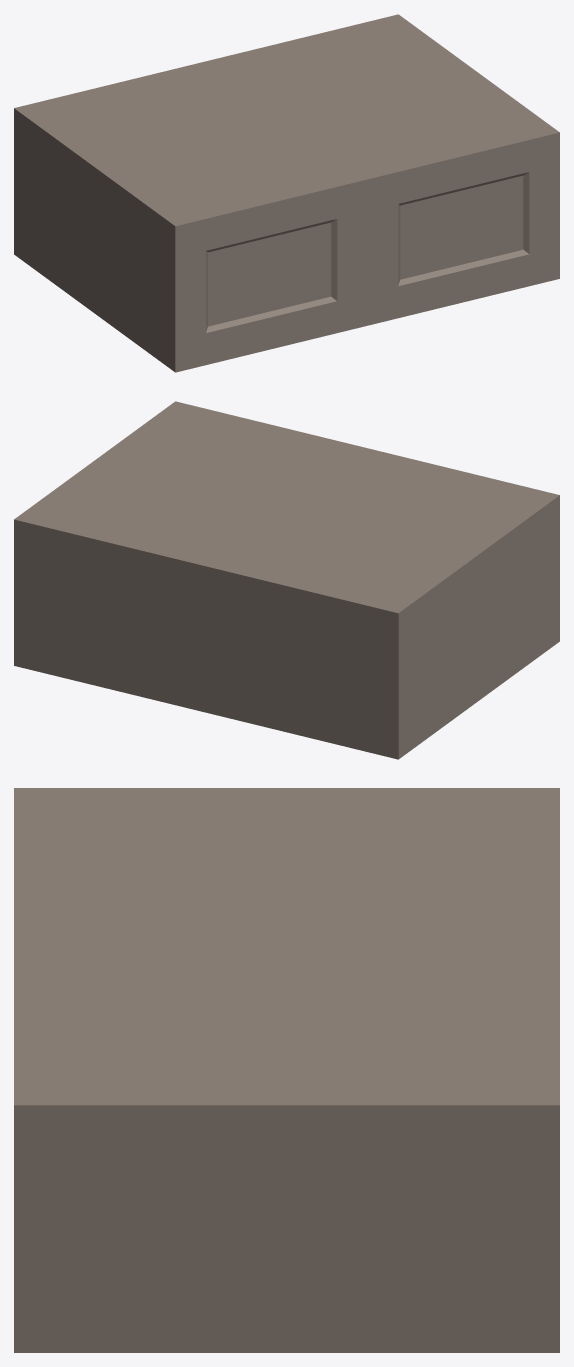
The model's file is WHP-Wall-Refrigerator-Two-Butt-Door.std.glb.
3 renders of one model, top to bottom at view 1: azimuth 30°, elevation 25°; view 2: azimuth 150°, elevation 25°; view 3: azimuth 270°, elevation 25°, orthographic. The views are drawn at different scales.
Visible parts, largest first — view 1: WHP-Wall-Refrigerator-Two-Butt-Door.std.001; view 2: WHP-Wall-Refrigerator-Two-Butt-Door.std.001; view 3: WHP-Wall-Refrigerator-Two-Butt-Door.std.001.
Part boxes in pixels (x1,y1,x2,y2): WHP-Wall-Refrigerator-Two-Butt-Door.std.001: (14, 14, 559, 372); WHP-Wall-Refrigerator-Two-Butt-Door.std.001: (14, 401, 559, 759); WHP-Wall-Refrigerator-Two-Butt-Door.std.001: (14, 788, 559, 1352).
Size of the model in its own units: 0.8382 by 0.3048 by 0.6096.
